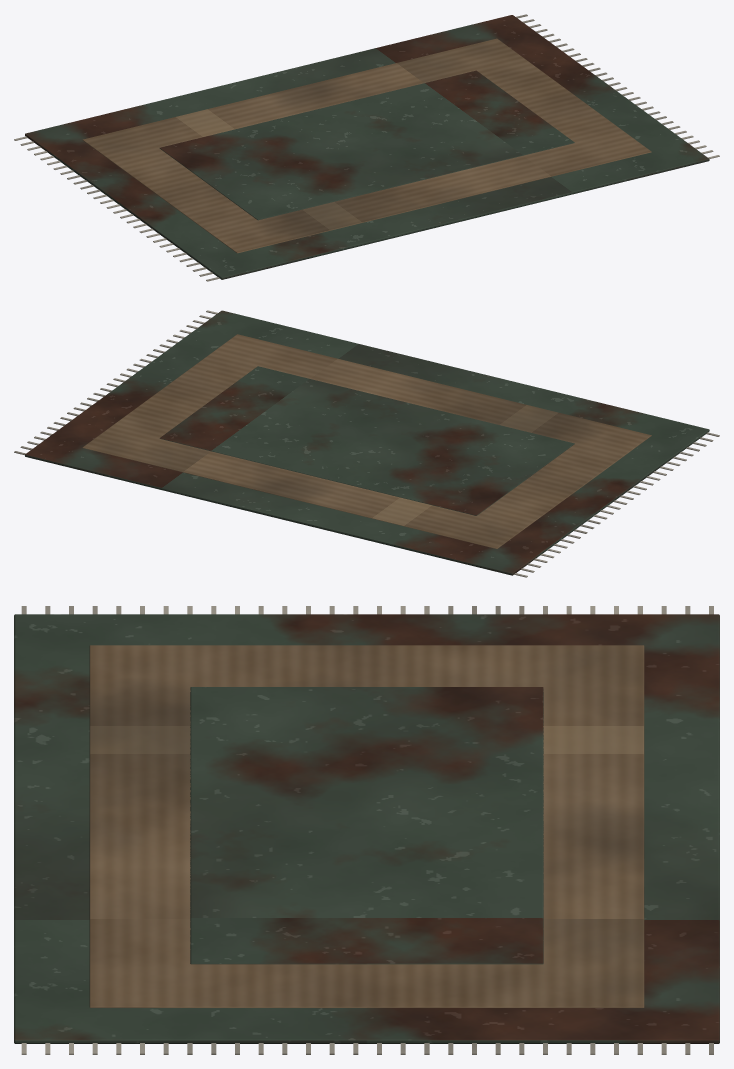
The model's file is L07_floor_rug_v3.glb.
3 renders of one model, top to bottom at view 1: azimuth 30°, elevation 25°; view 2: azimuth 150°, elevation 25°; view 3: azimuth 270°, elevation 25°, orthographic. The views are drawn at different scales.
Parts seen in each view (by area): view 1: L07_floor_rug_v3; view 2: L07_floor_rug_v3; view 3: L07_floor_rug_v3.
Boxes of the visible parts, x1,y1,x2,y2 form: L07_floor_rug_v3: (14,14,719,281); L07_floor_rug_v3: (14,310,719,577); L07_floor_rug_v3: (14,606,719,1054).
Bounding box in the file's own units: 2 × 0.0133 × 1.33.
Materials: 4 (4 with a texture image).
